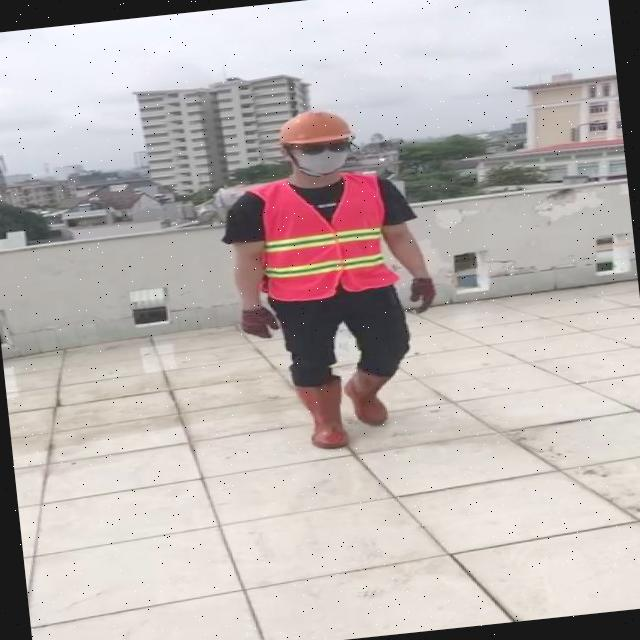boots: (293, 376, 357, 453), (343, 366, 394, 428)
